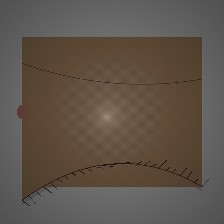pinguecula_lesion: (33, 94, 77, 129)
